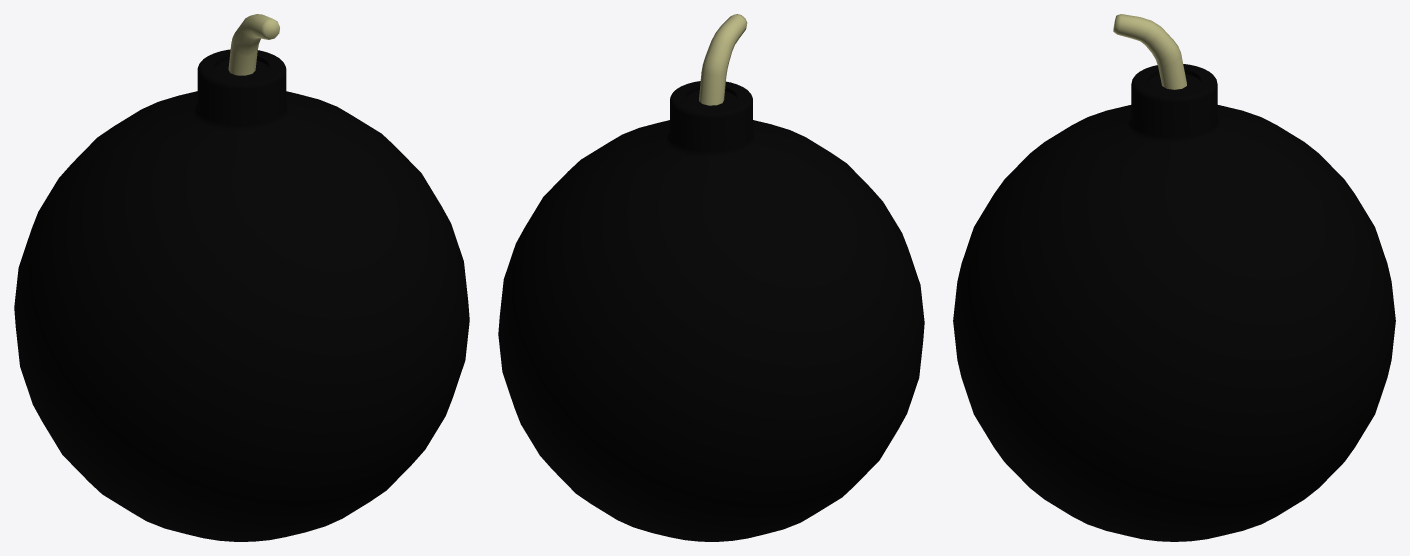
Rendered from Bomb.fbx.
3 renders of one model, left to right at view 1: azimuth 30°, elevation 25°; view 2: azimuth 150°, elevation 25°; view 3: azimuth 270°, elevation 25°, orthographic. The views are drawn at different scales.
Parts seen in each view (by area): view 1: Sphere, Cube; view 2: Sphere, Cube; view 3: Sphere, Cube.
Boxes of the visible parts, x1,y1,x2,y2 form: Sphere: [14, 49, 469, 541]; Cube: [228, 14, 279, 75]; Sphere: [498, 81, 924, 541]; Cube: [699, 14, 747, 105]; Sphere: [953, 64, 1395, 541]; Cube: [1113, 14, 1186, 89].
Size of the model in its own units: 122 by 153 by 122.
